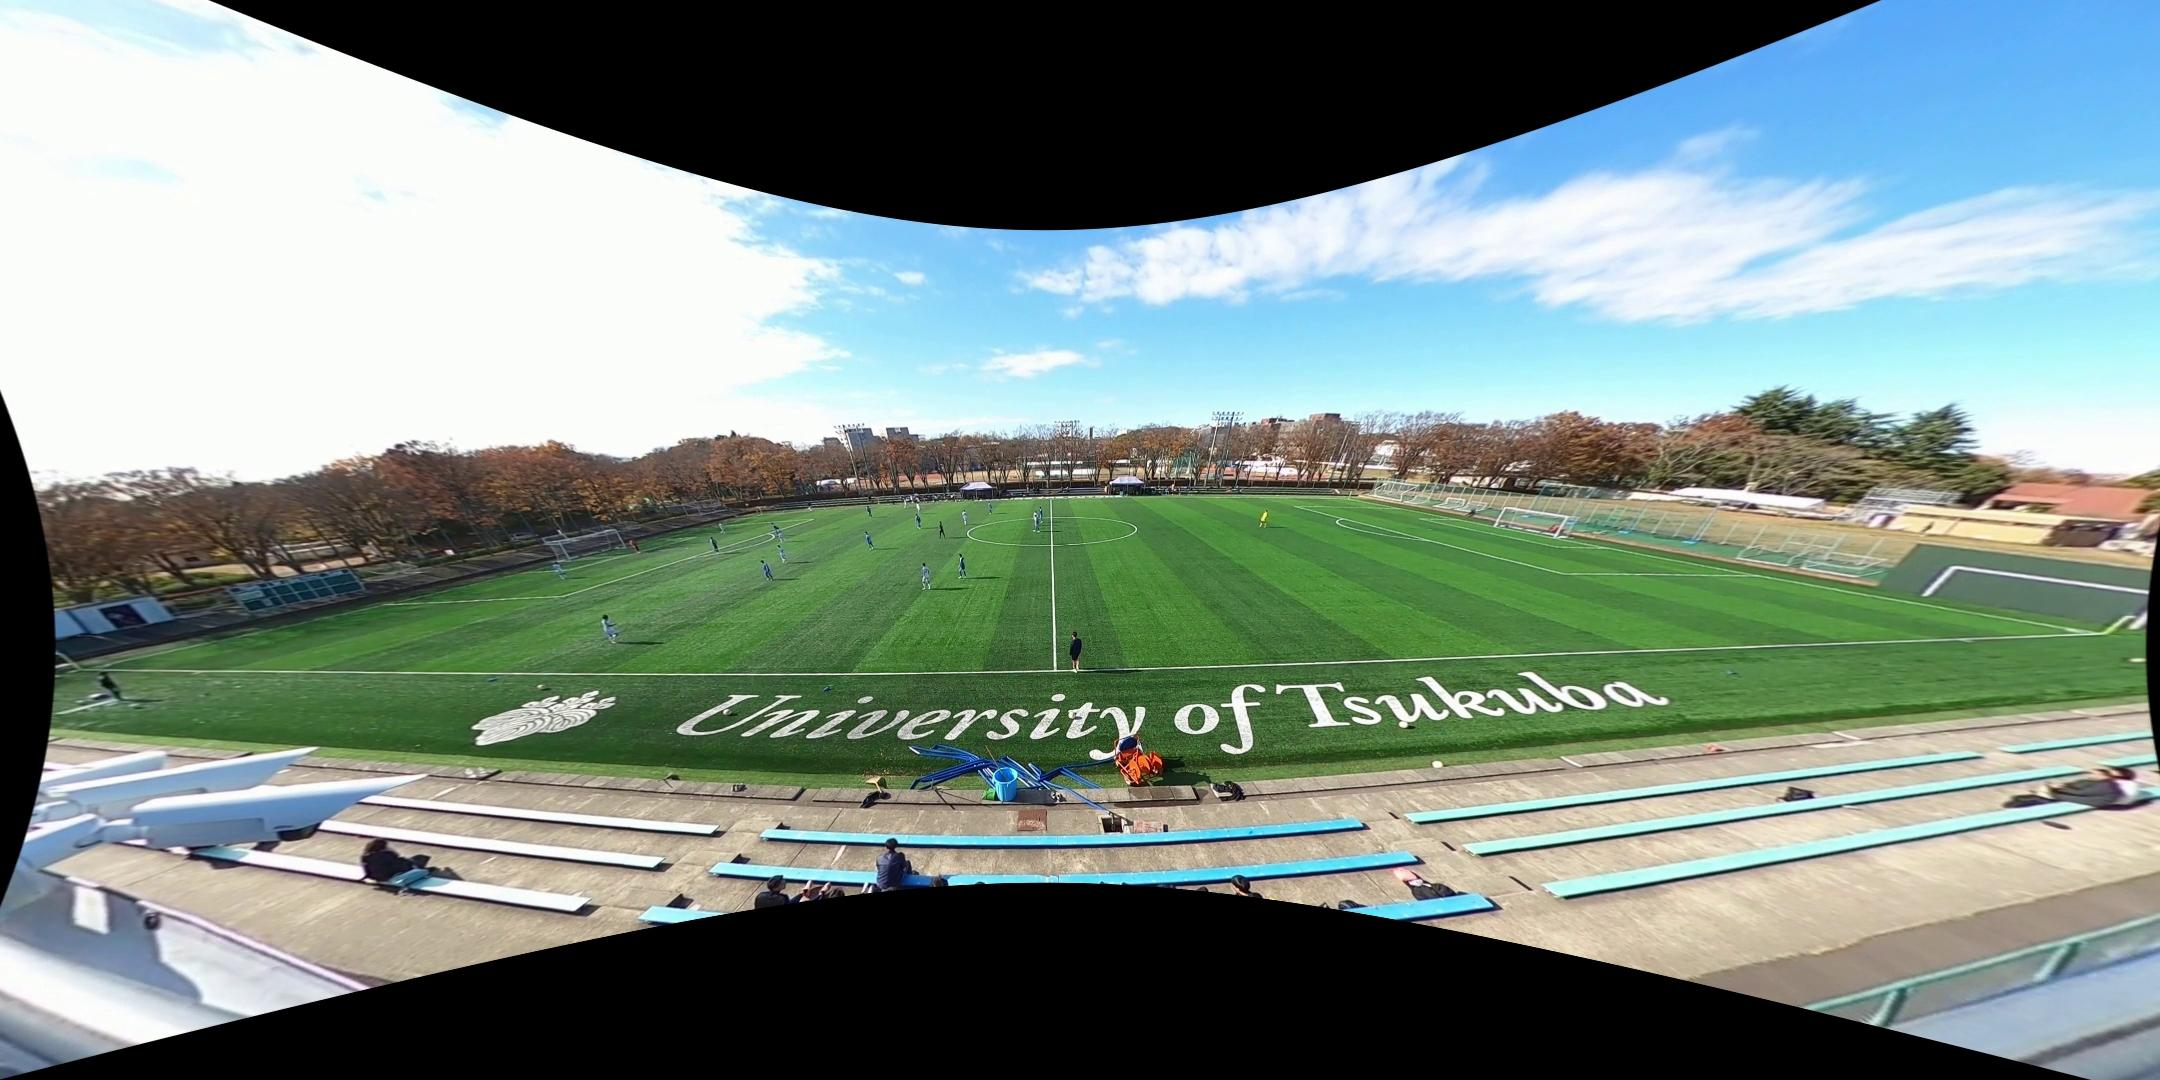person: (601, 615, 619, 644), (1070, 632, 1082, 671), (920, 561, 932, 591), (551, 560, 566, 580), (760, 559, 773, 582), (956, 554, 968, 578), (775, 527, 789, 544), (776, 546, 789, 564), (864, 532, 875, 552), (630, 538, 642, 555), (1260, 510, 1271, 528), (709, 536, 720, 554), (771, 521, 780, 538), (937, 521, 945, 538), (717, 522, 727, 535), (915, 513, 923, 529), (960, 509, 968, 525), (1034, 516, 1040, 533), (865, 507, 873, 519), (1038, 506, 1044, 522), (914, 503, 922, 514), (987, 501, 993, 514), (1032, 511, 1038, 524), (903, 497, 909, 509), (807, 500, 813, 511)
